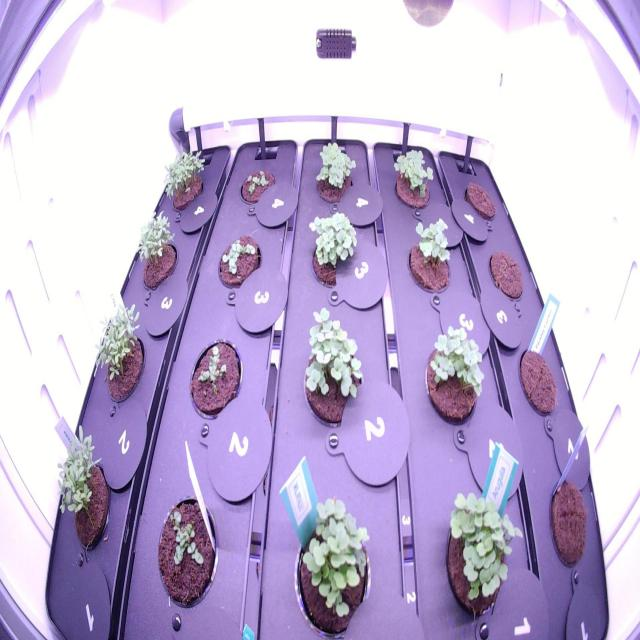germination: (286, 489, 376, 635), (438, 489, 525, 628), (298, 302, 372, 435), (148, 488, 223, 619), (50, 418, 117, 559), (421, 320, 487, 440), (82, 293, 149, 410), (183, 328, 248, 428), (301, 203, 368, 297), (400, 207, 455, 301), (384, 132, 442, 221), (128, 204, 180, 297), (156, 142, 213, 219), (310, 133, 361, 210), (214, 226, 265, 302), (236, 160, 279, 212)
pod: (545, 473, 593, 576), (513, 334, 563, 425), (483, 238, 526, 308), (458, 172, 501, 229)
